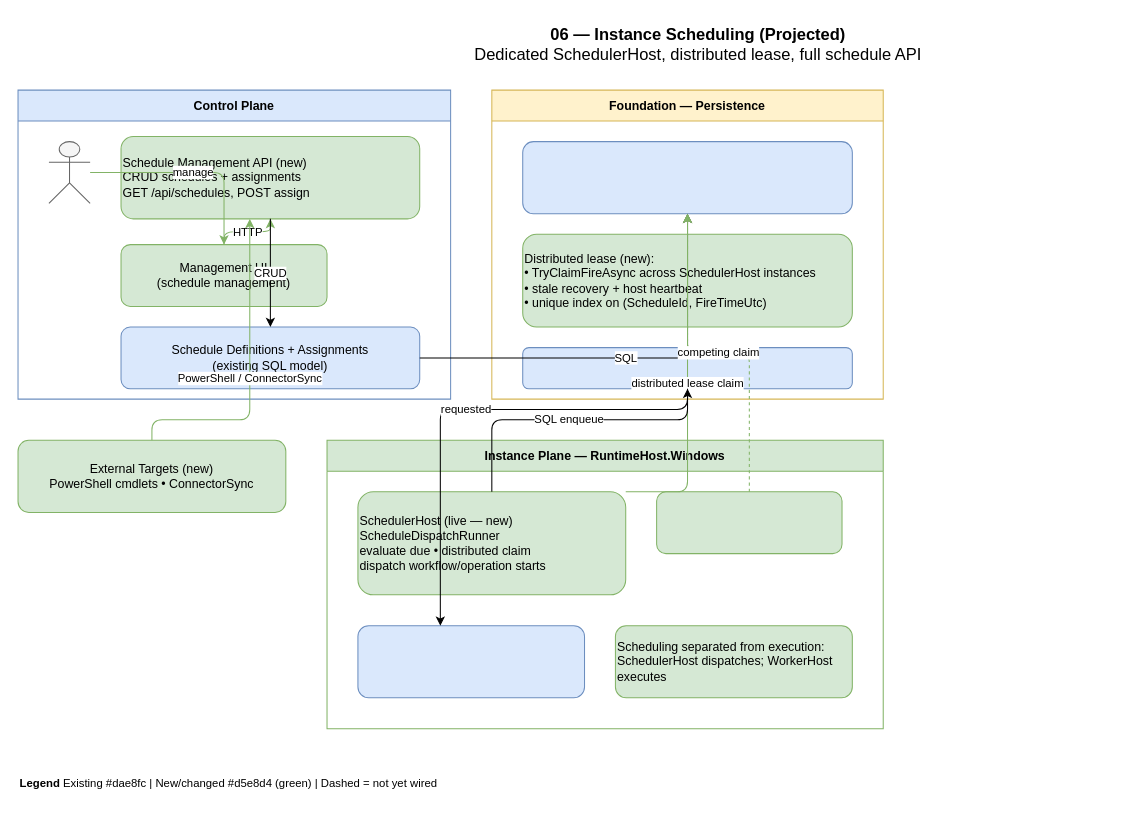
Some shapes in this 1148 by 818 pixel diagram are drawn without their labels. The shapes that lost their labels are listed below. From the top down, each one's centre as x and y in pixels, then its label:
At point 69,172: "Operator".
At point 687,177: "Schedules • ScheduleAssignments ScheduleRuns (distributed lease)".
At point 687,368: "WorkflowStartRequests / OperationRuns idempotency: schedule:{id}:{fireTime:O}".
At point 749,522: "SchedulerHost (replica)".
At point 471,661: "WorkerHost (existing) StartRequestWorker only".
